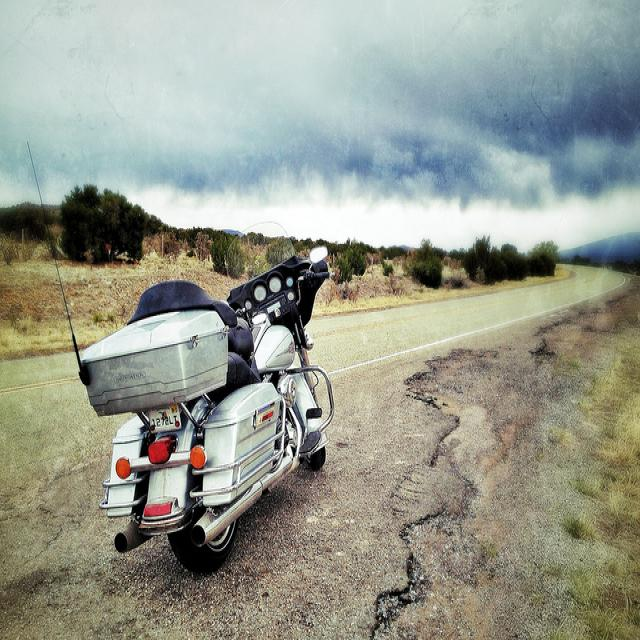motor: (79, 243, 340, 575)
